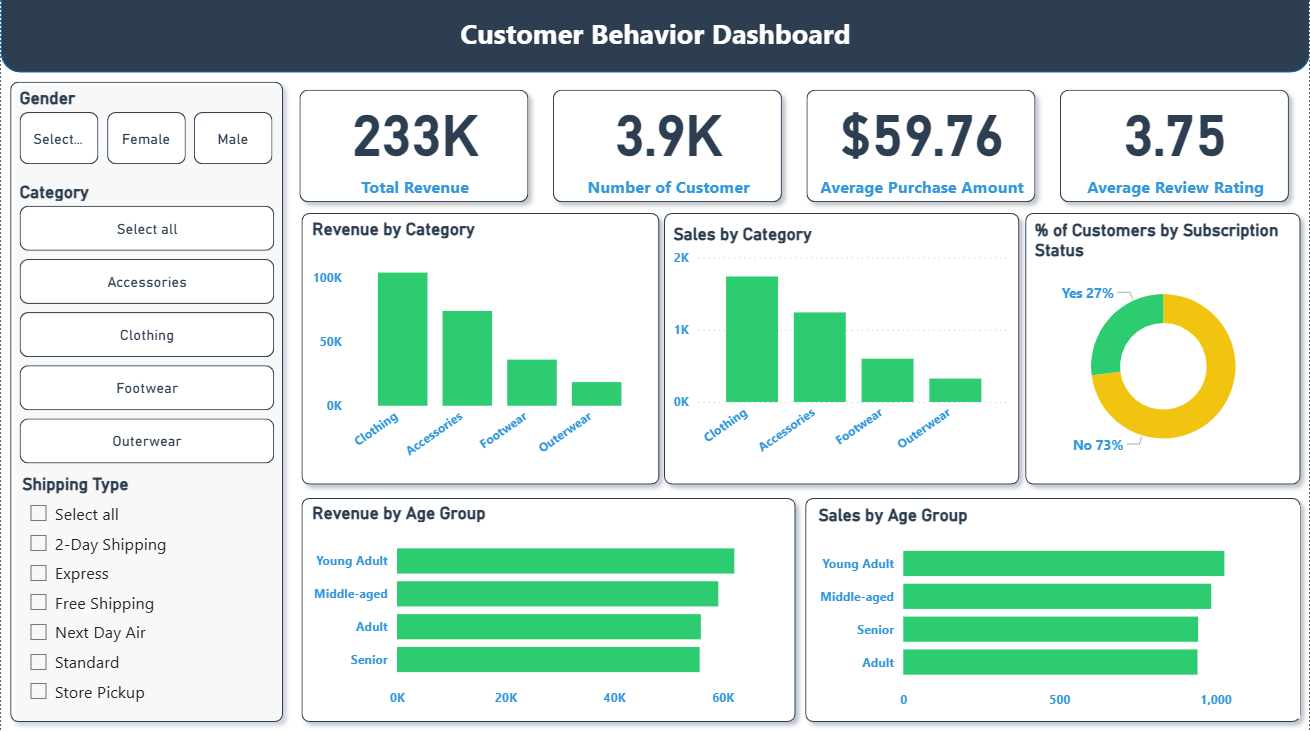

The dashboard page shown, as its layout file describes it:
{"tool":"powerbi","page":{"name":"Page 1","canvas":[1280,720],"ordinal":0},"visuals":[{"type":"cardVisual","fields":{"Data":["public customer.Total Revenue","public customer.Number of Customer","public customer.Average Purchase Amount","public customer.Average Review Rating"]},"box":[275.1,75.8,1005.2,144.3],"z":0},{"type":"shape","box":[0,0,1280.3,75.8],"z":1000},{"type":"textbox","box":[0,14.7,1280.3,61.1],"z":2000},{"type":"shape","box":[992.9,204.2,287.4,283.7],"z":3000},{"type":"shape","box":[284.9,204.2,368.1,283.7],"z":4000},{"type":"donutChart","title":"% of Customers by Subscription Status","fields":{"Category":["public customer.subscription_status"],"Y":["public customer.Number of Customer"]},"box":[1006.4,220.1,261.7,248.2],"z":5000},{"type":"shape","box":[639.5,204.2,365.6,283.7],"z":6000},{"type":"clusteredColumnChart","title":"Revenue by Category","fields":{"Y":["Sum(public customer.purchase_amount)"],"Category":["public customer.category"]},"box":[299.6,218.9,339.9,253.1],"z":7000},{"type":"clusteredColumnChart","title":"Sales by Category","fields":{"Category":["public customer.category"],"Y":["CountNonNull(public customer.customer_id)"]},"box":[653,223.8,339.9,244.6],"z":8000},{"type":"shape","box":[0,75.8,284.9,644.4],"z":9000},{"type":"advancedSlicerVisual","title":"Gender","fields":{"Values":["public customer.gender"]},"box":[13.5,90.5,259.2,80.7],"z":10000},{"type":"advancedSlicerVisual","title":"Category","fields":{"Values":["public customer.category"]},"box":[13.5,182.2,259.2,286.1],"z":11000},{"type":"shape","box":[284.9,483,501.4,237.2],"z":12000},{"type":"shape","box":[777.7,483,502.6,237.2],"z":13000},{"type":"slicer","title":"Shipping Type","fields":{"Values":["public customer.shipping_type"]},"box":[15.9,468.3,256.8,237.2],"z":14000},{"type":"clusteredBarChart","title":"Sales by Age Group","fields":{"Category":["public customer.age_group"],"Y":["CountNonNull(public customer.customer_id)"]},"box":[794.8,498.9,475.7,209.1],"z":15000},{"type":"clusteredBarChart","title":"Revenue by Age Group","fields":{"Category":["public customer.age_group"],"Y":["Sum(public customer.purchase_amount)"]},"box":[299.6,496.5,475.7,209.1],"z":16000}]}

Visuals, with their boxes in screenshot pixels (x1, y1, x2, y2), scaled from the page's 1280x720 canvas onto the 1310x731 screenshot:
cardVisual - public customer.Total Revenue x public customer.Number of Customer: region(282, 77, 1309, 223)
shape: region(0, 0, 1309, 77)
textbox: region(0, 15, 1309, 77)
shape: region(1016, 207, 1309, 495)
shape: region(292, 207, 668, 495)
"% of Customers by Subscription Status" donutChart: region(1030, 223, 1298, 475)
shape: region(654, 207, 1029, 495)
"Revenue by Category" clusteredColumnChart: region(307, 222, 654, 479)
"Sales by Category" clusteredColumnChart: region(668, 227, 1016, 476)
shape: region(0, 77, 292, 730)
"Gender" advancedSlicerVisual: region(14, 92, 279, 174)
"Category" advancedSlicerVisual: region(14, 185, 279, 475)
shape: region(292, 490, 805, 730)
shape: region(796, 490, 1309, 730)
"Shipping Type" slicer: region(16, 475, 279, 716)
"Sales by Age Group" clusteredBarChart: region(813, 507, 1300, 719)
"Revenue by Age Group" clusteredBarChart: region(307, 504, 793, 716)
